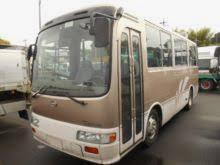bus: (27, 7, 199, 165), (197, 46, 220, 91)
